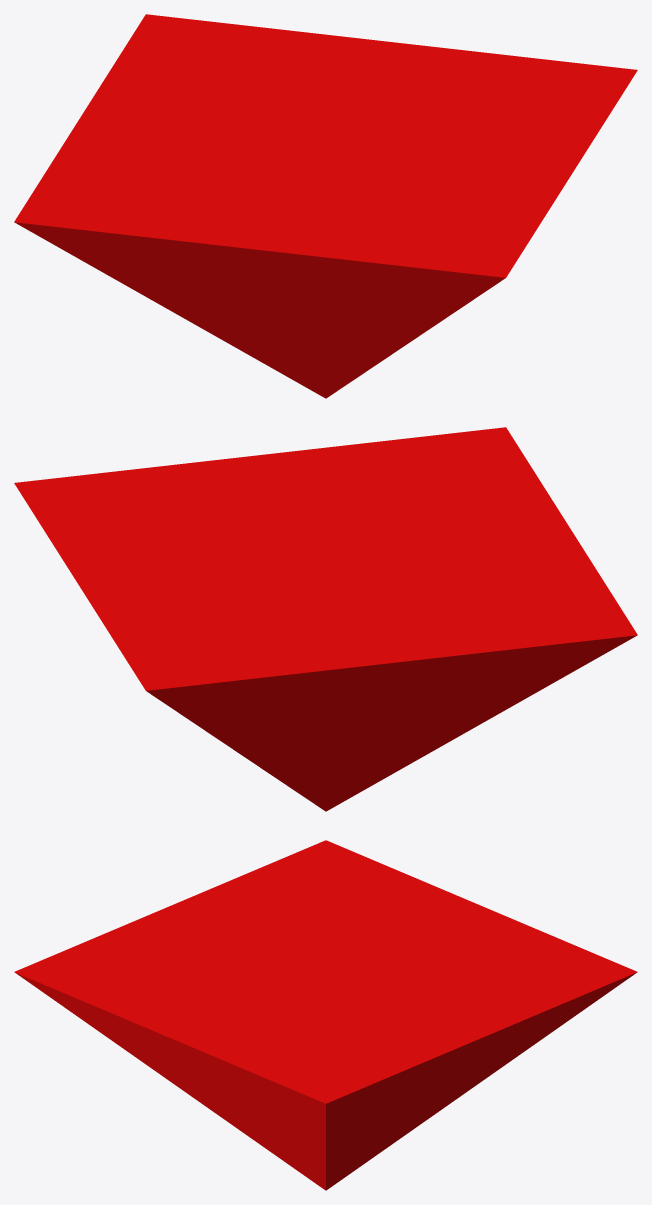
The model's file is POI_0.glb.
The picture shows the model from 3 angles, top to bottom: view 1: azimuth 30°, elevation 25°; view 2: azimuth 150°, elevation 25°; view 3: azimuth 270°, elevation 25°; orthographic projection. The views are drawn at different scales.
Visible parts, largest first — view 1: pCone1; view 2: pCone1; view 3: pCone1.
Part boxes in pixels (x1=…): pCone1: x1=14, y1=14, x2=637, y2=398; pCone1: x1=14, y1=427, x2=637, y2=811; pCone1: x1=14, y1=840, x2=637, y2=1190.
Bounding box in the file's own units: 5.55 × 2.15 × 5.55.
